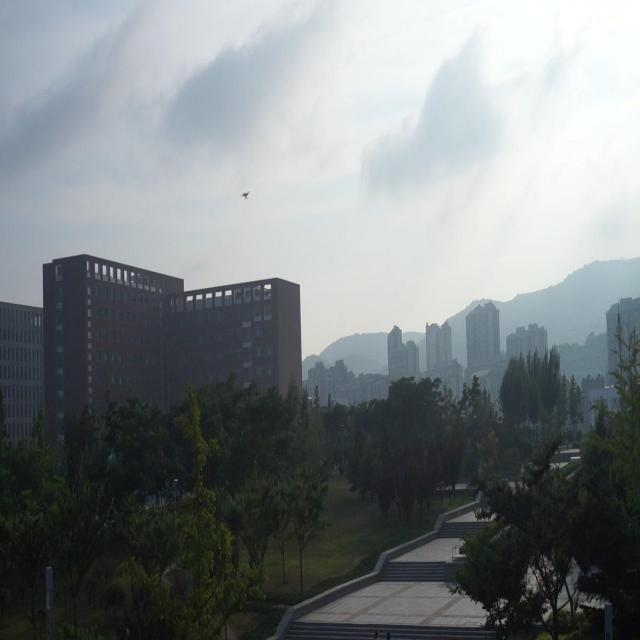UAV: (240, 191, 250, 200)
